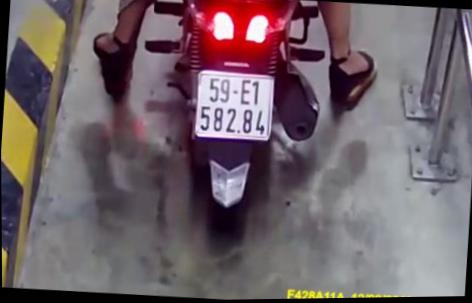LP: (192, 68, 276, 144)
